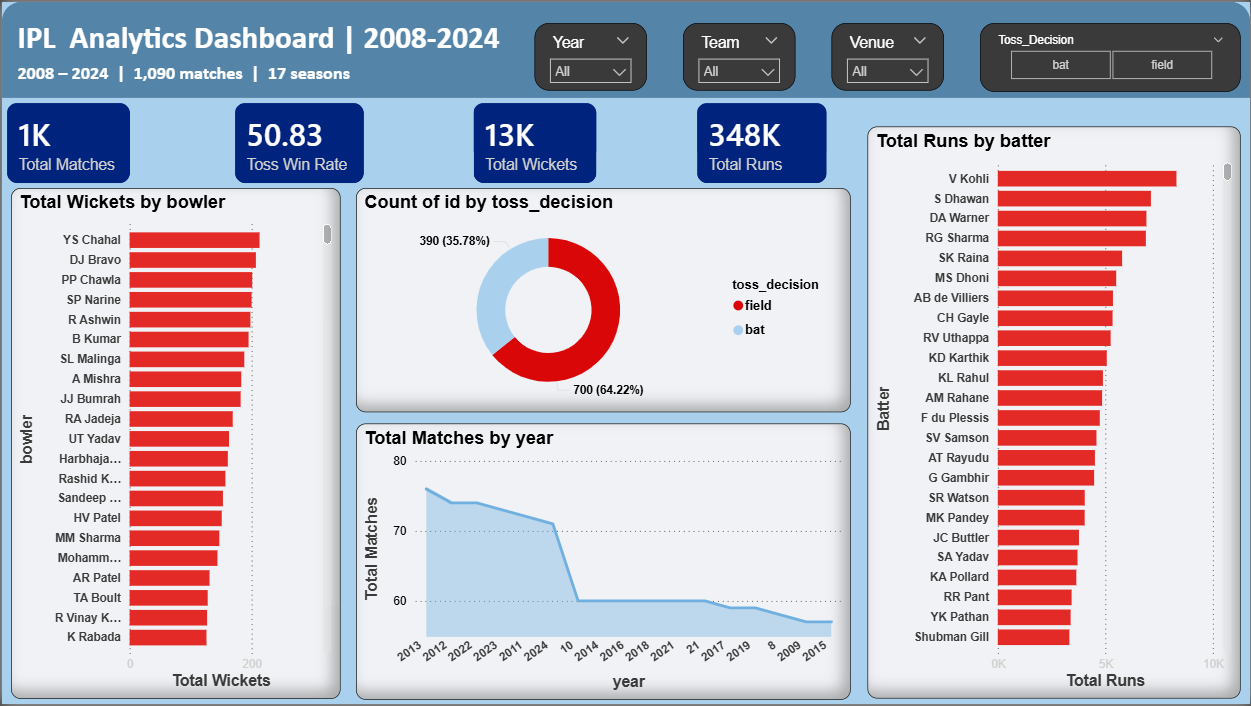

The dashboard page shown, as its layout file describes it:
{"tool":"powerbi","page":{"name":"Page 1","canvas":[1280,720],"ordinal":0},"visuals":[{"type":"shape","box":[0,0,1280,98.3],"z":0},{"type":"cardVisual","fields":{"Data":["matches_clean.Total Matches"]},"box":[0,98.4,136.3,92.4],"z":1000},{"type":"cardVisual","fields":{"Data":["matches_clean.Toss Win Rate"]},"box":[233.2,98.4,142.3,92.4],"z":2000},{"type":"cardVisual","fields":{"Data":["matches_clean.Total Wickets"]},"box":[478.5,98.4,136.3,92.4],"z":3000},{"type":"cardVisual","fields":{"Data":["matches_clean.Total Runs"]},"box":[707.1,98.4,143.8,92.4],"z":4000},{"type":"clusteredBarChart","fields":{"Category":["deliveries.batter"],"Y":["matches_clean.Total Runs"]},"box":[887.3,128,382.5,586.7],"z":5000},{"type":"clusteredBarChart","fields":{"Category":["deliveries.bowler"],"Y":["matches_clean.Total Wickets"]},"box":[9.1,190.8,337.7,523.9],"z":6000},{"type":"slicer","fields":{"Values":["matches_clean.year"]},"box":[546.6,21.2,115.1,69.7],"z":7000},{"type":"slicer","fields":{"Values":["matches_clean.venue"]},"box":[851,21.2,115.1,69.7],"z":8000},{"type":"slicer","fields":{"Values":["matches_clean.team1"]},"box":[698,21.2,115.1,69.7],"z":9000},{"type":"slicer","fields":{"Values":["matches_clean.toss_decision"]},"box":[1002.4,21.6,267.5,70.5],"z":10000},{"type":"textbox","box":[10.1,10.1,563.7,54.6],"z":11000},{"type":"textbox","box":[10.1,56.1,375.3,60.4],"z":12000},{"type":"areaChart","fields":{"Category":["matches_clean.year"],"Y":["matches_clean.Total Matches"]},"box":[363.4,431.5,507.3,283.2],"z":13000},{"type":"donutChart","fields":{"Category":["matches_clean.toss_decision"],"Y":["CountNonNull(matches_clean.id)"]},"box":[363.4,190.8,507.3,230.2],"z":14000}]}

Visuals, with their boxes in screenshot pixels (x1, y1, x2, y2), scaled from the page's 1280x720 canvas onto the 1251x706 screenshot:
shape: region(0, 0, 1250, 96)
cardVisual - matches_clean.Total Matches: region(0, 96, 133, 187)
cardVisual - matches_clean.Toss Win Rate: region(228, 96, 367, 187)
cardVisual - matches_clean.Total Wickets: region(468, 96, 601, 187)
cardVisual - matches_clean.Total Runs: region(691, 96, 832, 187)
clusteredBarChart - deliveries.batter x matches_clean.Total Runs: region(867, 126, 1241, 701)
clusteredBarChart - deliveries.bowler x matches_clean.Total Wickets: region(9, 187, 339, 701)
slicer - matches_clean.year: region(534, 21, 647, 89)
slicer - matches_clean.venue: region(832, 21, 944, 89)
slicer - matches_clean.team1: region(682, 21, 795, 89)
slicer - matches_clean.toss_decision: region(980, 21, 1241, 90)
textbox: region(10, 10, 561, 63)
textbox: region(10, 55, 377, 114)
areaChart - matches_clean.year x matches_clean.Total Matches: region(355, 423, 851, 701)
donutChart - matches_clean.toss_decision x CountNonNull(matches_clean.id): region(355, 187, 851, 413)
